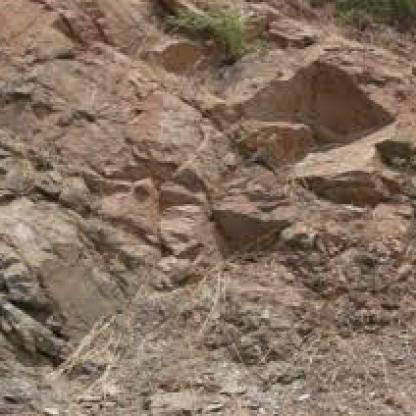Metamorphic_Quartize: (216, 33, 398, 161), (0, 175, 116, 365)
